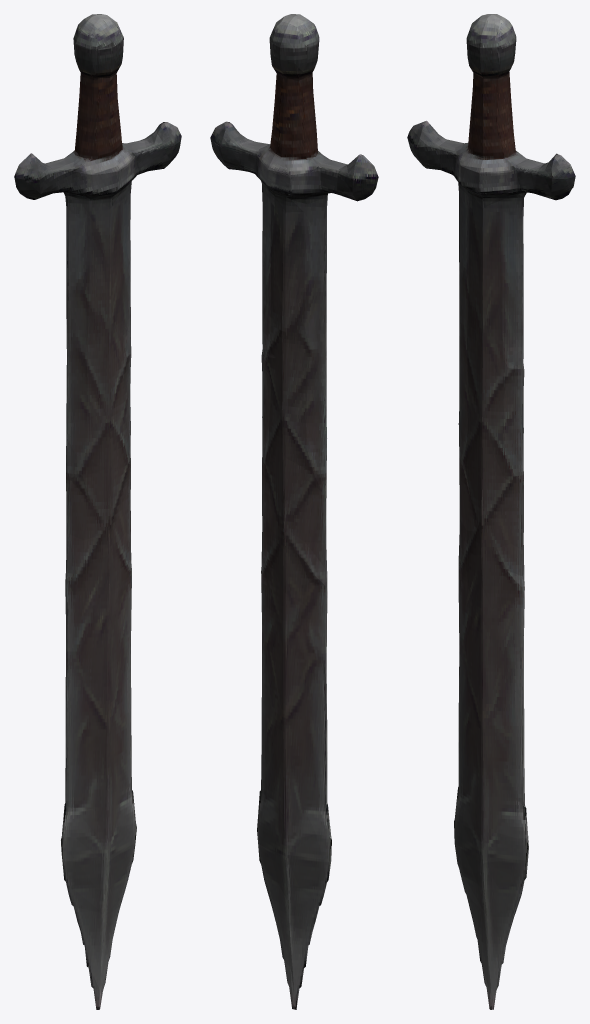
The model's file is sample.glb.
The picture shows the model from 3 angles, left to right: view 1: azimuth 30°, elevation 25°; view 2: azimuth 150°, elevation 25°; view 3: azimuth 330°, elevation 25°; orthographic projection.
Visible parts, largest first — view 1: world; view 2: world; view 3: world.
Boxes of the visible parts, left/top/right/bottom form: world: left=14, top=14, right=181, bottom=1009; world: left=210, top=14, right=378, bottom=1009; world: left=407, top=14, right=575, bottom=1009.
Size of the model in its own units: 0.1755 by 1 by 0.0553.
1 material, 1 textured.
